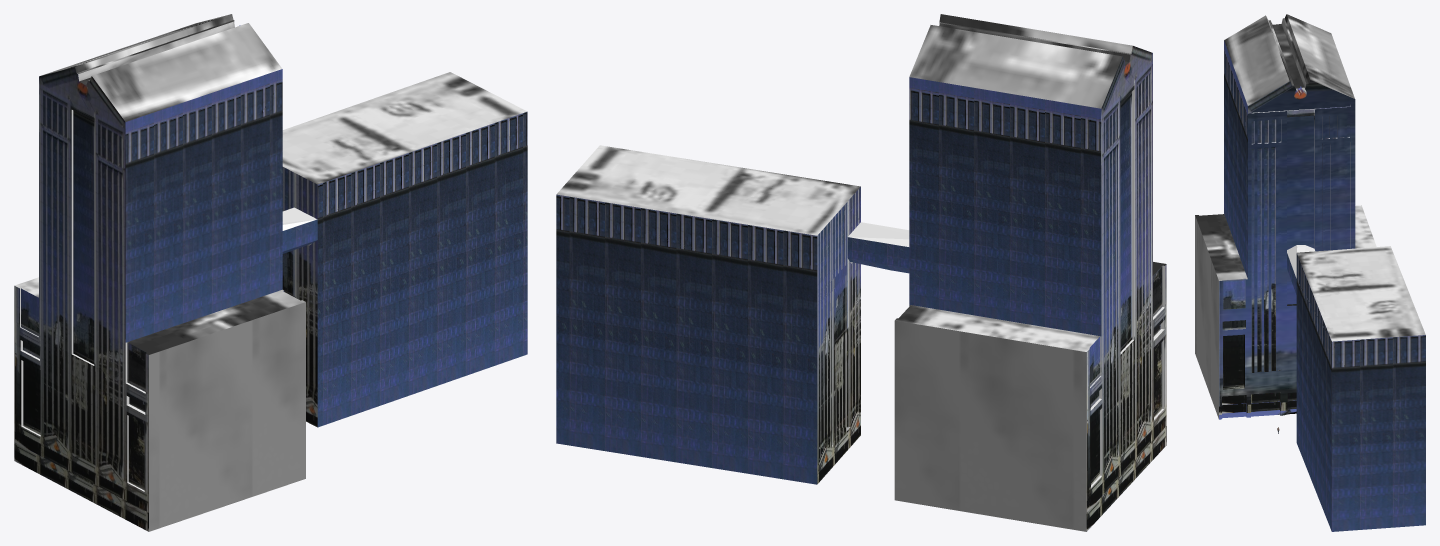
Rendered from torre_santander.glb.
3 renders of one model, left to right at view 1: azimuth 30°, elevation 25°; view 2: azimuth 150°, elevation 25°; view 3: azimuth 270°, elevation 25°, orthographic. The views are drawn at different scales.
Parts seen in each view (by area): view 1: torre_santander; view 2: torre_santander; view 3: torre_santander.
Boxes of the visible parts, x1,y1,x2,y2 form: torre_santander: [14, 14, 527, 531]; torre_santander: [556, 14, 1166, 531]; torre_santander: [1195, 14, 1425, 531].
Bounding box in the file's own units: 105 × 86.56 × 54.22.
Materials: 18 (9 with a texture image).
